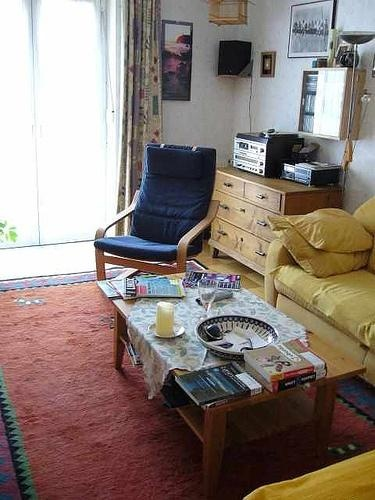chair: (93, 143, 221, 284)
sofa: (266, 191, 375, 387)
